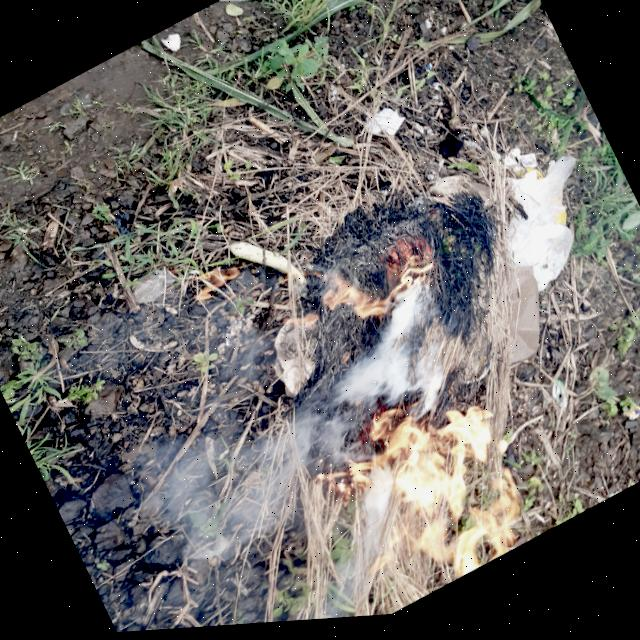Fire: (304, 367, 548, 624)
Smoke: (148, 375, 368, 570), (318, 282, 468, 431)
